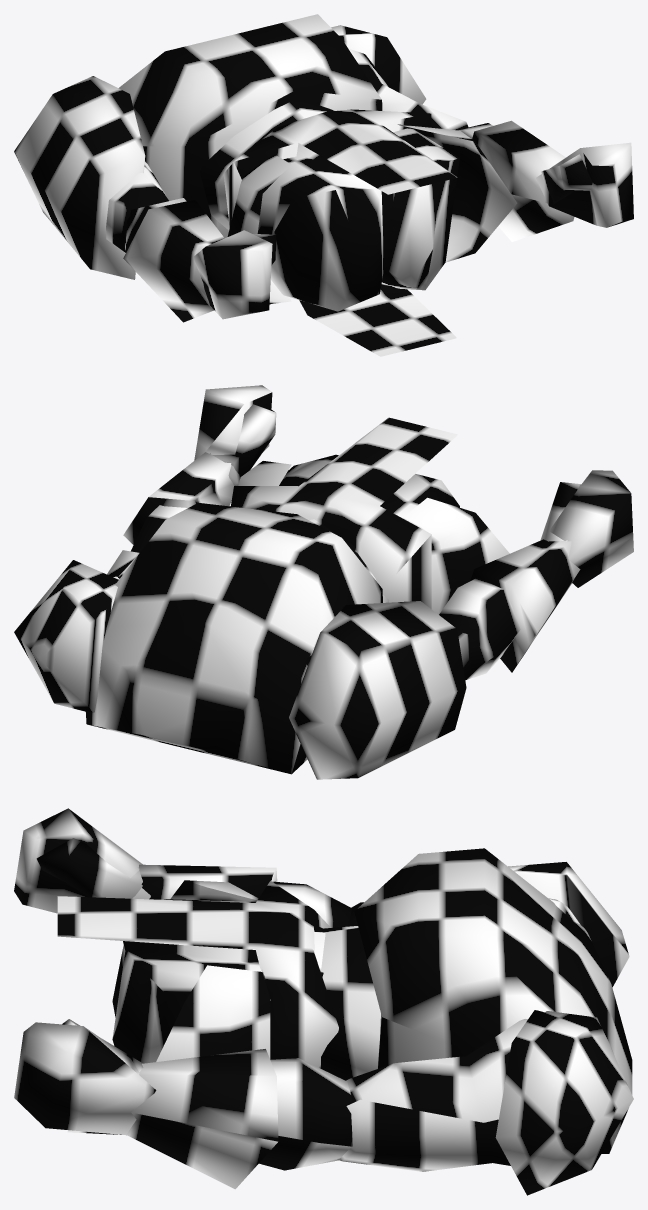
The model's file is initarpl1.dae.
3 renders of one model, top to bottom at view 1: azimuth 30°, elevation 25°; view 2: azimuth 150°, elevation 25°; view 3: azimuth 270°, elevation 25°, orthographic. The views are drawn at different scales.
Parts seen in each view (by area): view 1: armor; view 2: armor; view 3: armor.
Part boxes in pixels (bbox=[...]): armor: bbox=[14, 14, 633, 356]; armor: bbox=[14, 385, 633, 779]; armor: bbox=[14, 808, 633, 1195].
Size of the model in its own units: 1.64 by 1.76 by 0.7203.
Materials: 1 (1 with a texture image).
